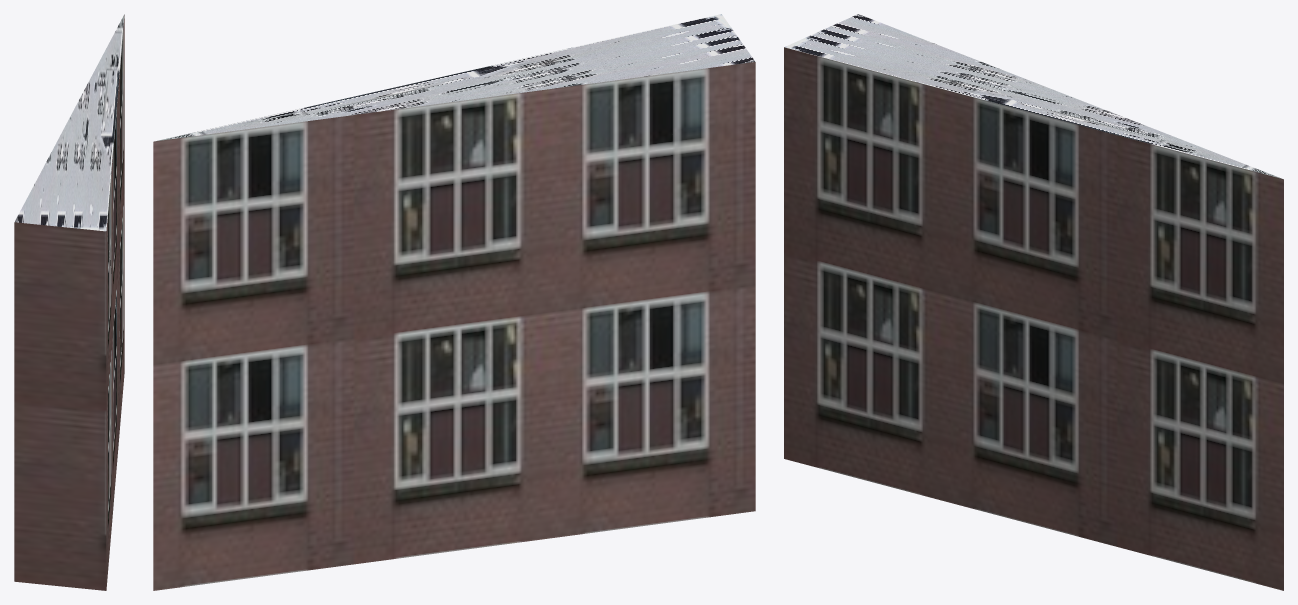
Rendered from ResTex__2386.fbx.
3 views of the same model, side by side, from view 1: azimuth 30°, elevation 25°; view 2: azimuth 150°, elevation 25°; view 3: azimuth 270°, elevation 25° (orthographic). The views are drawn at different scales.
Parts seen in each view (by area): view 1: CityEngineMaterial_12_m, CityEngineMaterial_2_m; view 2: CityEngineMaterial_12_m, CityEngineMaterial_2_m; view 3: CityEngineMaterial_12_m, CityEngineMaterial_2_m.
Part boxes in pixels (x1,y1,x2,y2): CityEngineMaterial_12_m: (14, 15, 124, 590); CityEngineMaterial_2_m: (14, 14, 124, 231); CityEngineMaterial_12_m: (153, 62, 755, 590); CityEngineMaterial_2_m: (156, 14, 755, 141); CityEngineMaterial_12_m: (784, 47, 1283, 590); CityEngineMaterial_2_m: (784, 14, 1282, 178).
Bounding box in the file's own units: 5.17 × 6 × 6.6.
2 materials, 2 textured.
